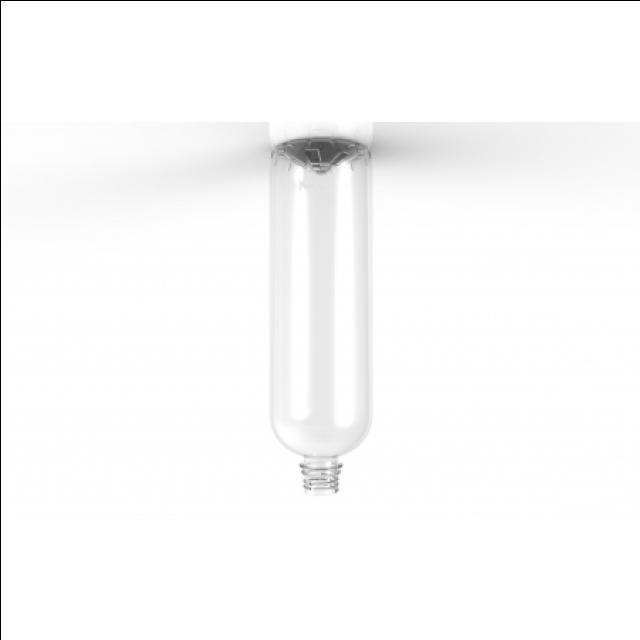bottle: (270, 138, 370, 494)
